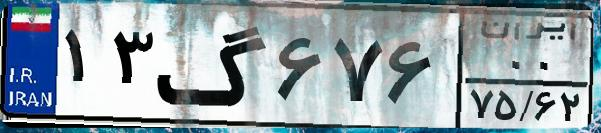0: (537, 27, 568, 80), (508, 27, 537, 80)
1: (57, 26, 110, 100)
2: (560, 70, 590, 125)
3: (110, 28, 156, 98)
5: (495, 70, 520, 125)
6: (270, 28, 330, 110), (385, 28, 445, 110), (535, 70, 560, 125)
7: (330, 28, 385, 110), (470, 70, 495, 125)
گ: (156, 12, 270, 120)
